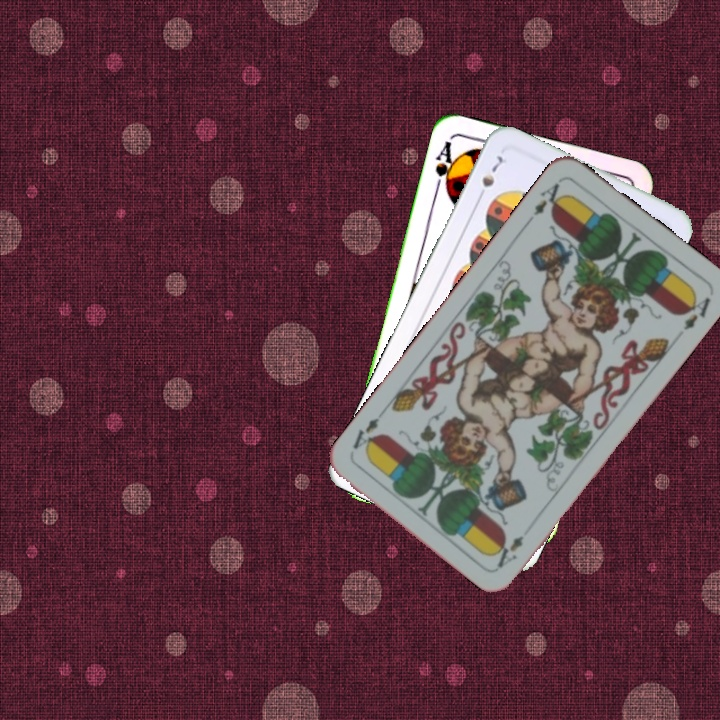EA: (522, 176, 569, 226), (492, 531, 527, 571)
S7: (473, 152, 506, 204)
SA: (430, 137, 461, 197)
